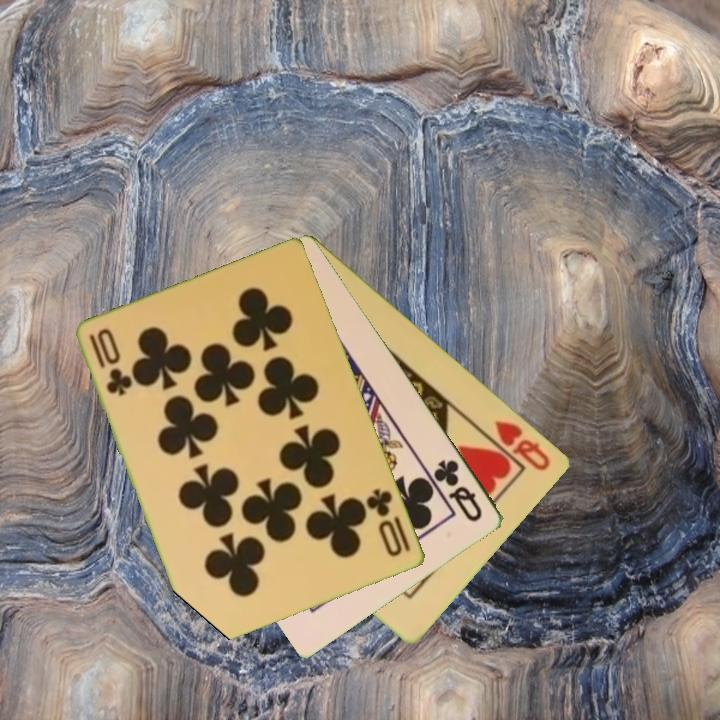10c: (363, 485, 414, 560), (86, 324, 134, 399)
Qc: (430, 456, 486, 525)
Qh: (491, 416, 554, 474)
